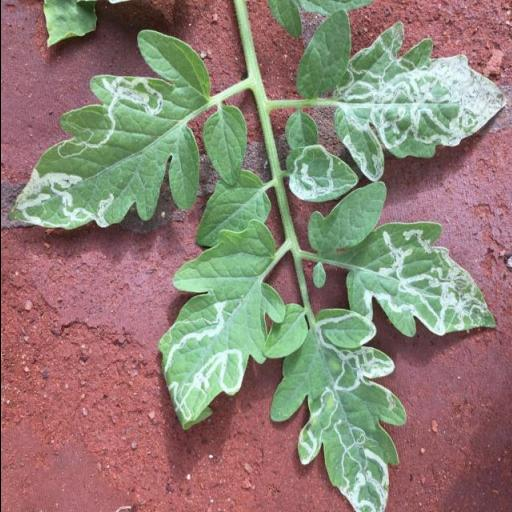disease_tomato: (8, 29, 210, 231), (268, 304, 406, 512), (330, 23, 506, 184), (154, 223, 284, 427), (342, 222, 498, 338), (284, 143, 360, 205)
